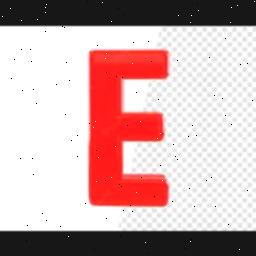e: (80, 44, 174, 208)
